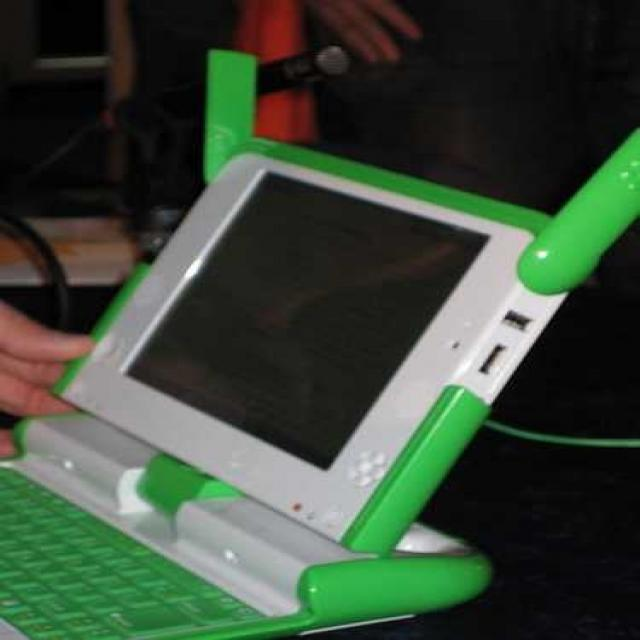laptop: (0, 175, 580, 639)
